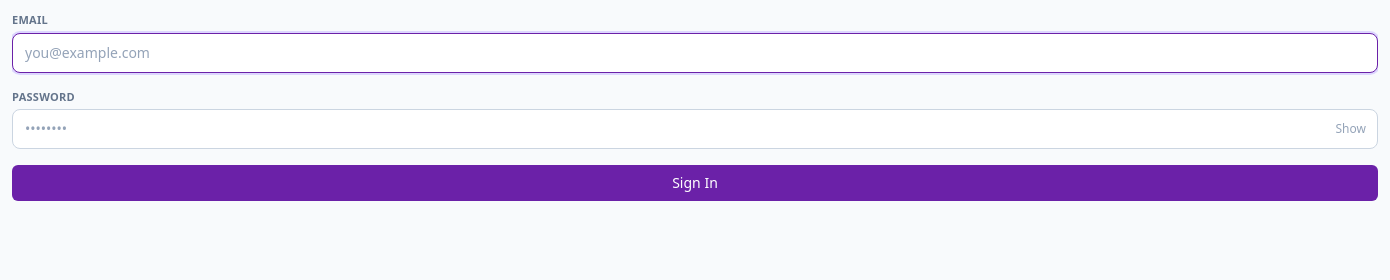
Test: LoginForm › shows validation error for empty email on submit
Click the button "Sign In": (695, 183) [12,165,1378,201]
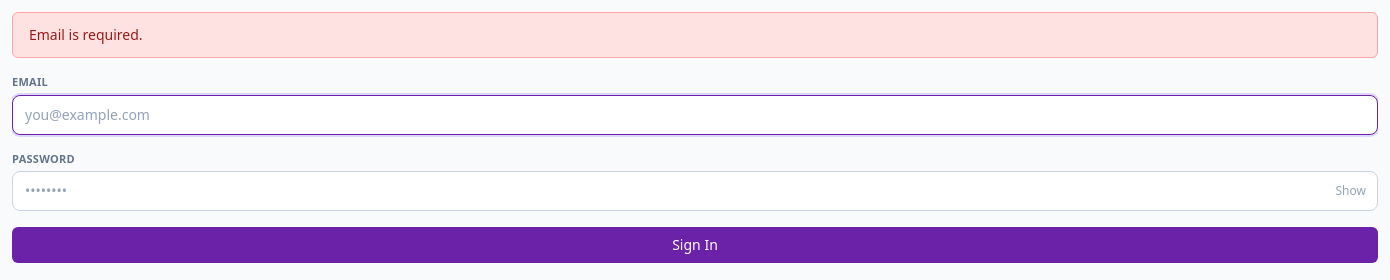
expect the text "Email is required." is shown: met, box [12,12,1378,58]
